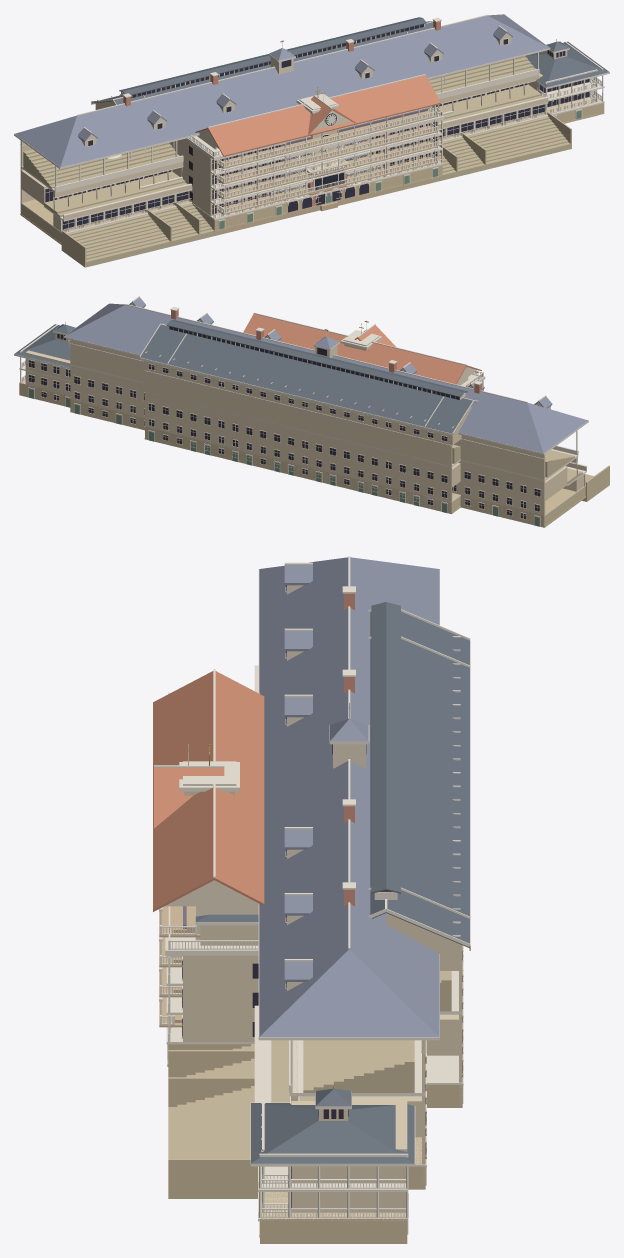
The model's file is york_stands.glb.
The picture shows the model from 3 angles, top to bottom: view 1: azimuth 30°, elevation 25°; view 2: azimuth 150°, elevation 25°; view 3: azimuth 270°, elevation 25°; orthographic projection. The views are drawn at different scales.
Parts seen in each view (by area): view 1: york_end_stand, york_big_pavilion, york_pavilions, york_stand_south, york_stand_north, york_clock_tower; view 2: york_end_stand, york_stand_south, york_stand_north, york_big_pavilion, york_clock_tower; view 3: york_end_stand, york_stand_north, york_big_pavilion, york_stand_south, york_pavilions, york_clock_tower.
Boxes of the visible parts, x1,y1,x2,y2 form: york_end_stand: [14, 14, 609, 267]; york_big_pavilion: [195, 74, 440, 233]; york_pavilions: [169, 105, 444, 231]; york_stand_south: [91, 17, 486, 245]; york_stand_north: [119, 24, 457, 238]; york_clock_tower: [270, 87, 381, 206]; york_end_stand: [14, 296, 609, 527]; york_stand_south: [139, 320, 478, 514]; york_stand_north: [167, 328, 444, 507]; york_big_pavilion: [243, 312, 481, 385]; york_clock_tower: [340, 323, 382, 350]; york_end_stand: [168, 556, 439, 1243]; york_stand_north: [168, 629, 470, 1077]; york_big_pavilion: [153, 669, 264, 1032]; york_stand_south: [168, 602, 470, 1107]; york_pavilions: [165, 692, 259, 1066]; york_clock_tower: [179, 744, 239, 795].
Size of the model in its own units: 135 by 31.59 by 34.57.
